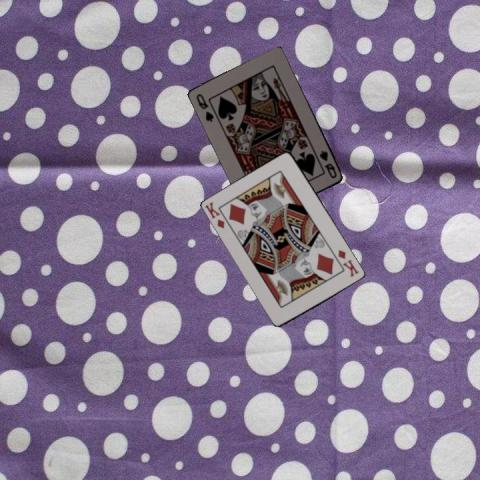Kd: (335, 246, 360, 279), (202, 199, 227, 230)
Qs: (316, 147, 338, 180), (194, 90, 215, 122)
